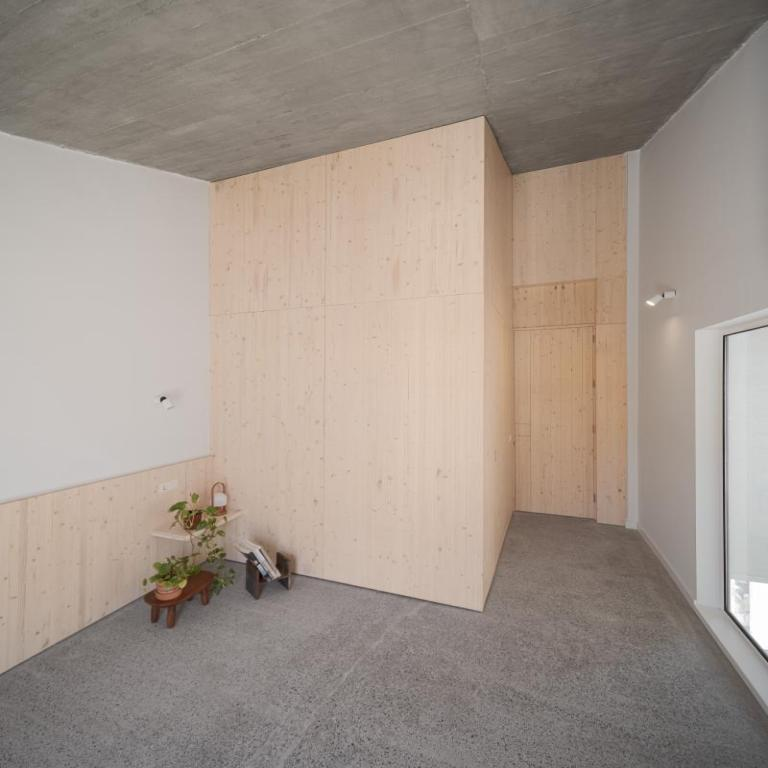white-walls: (5, 168, 197, 454)
